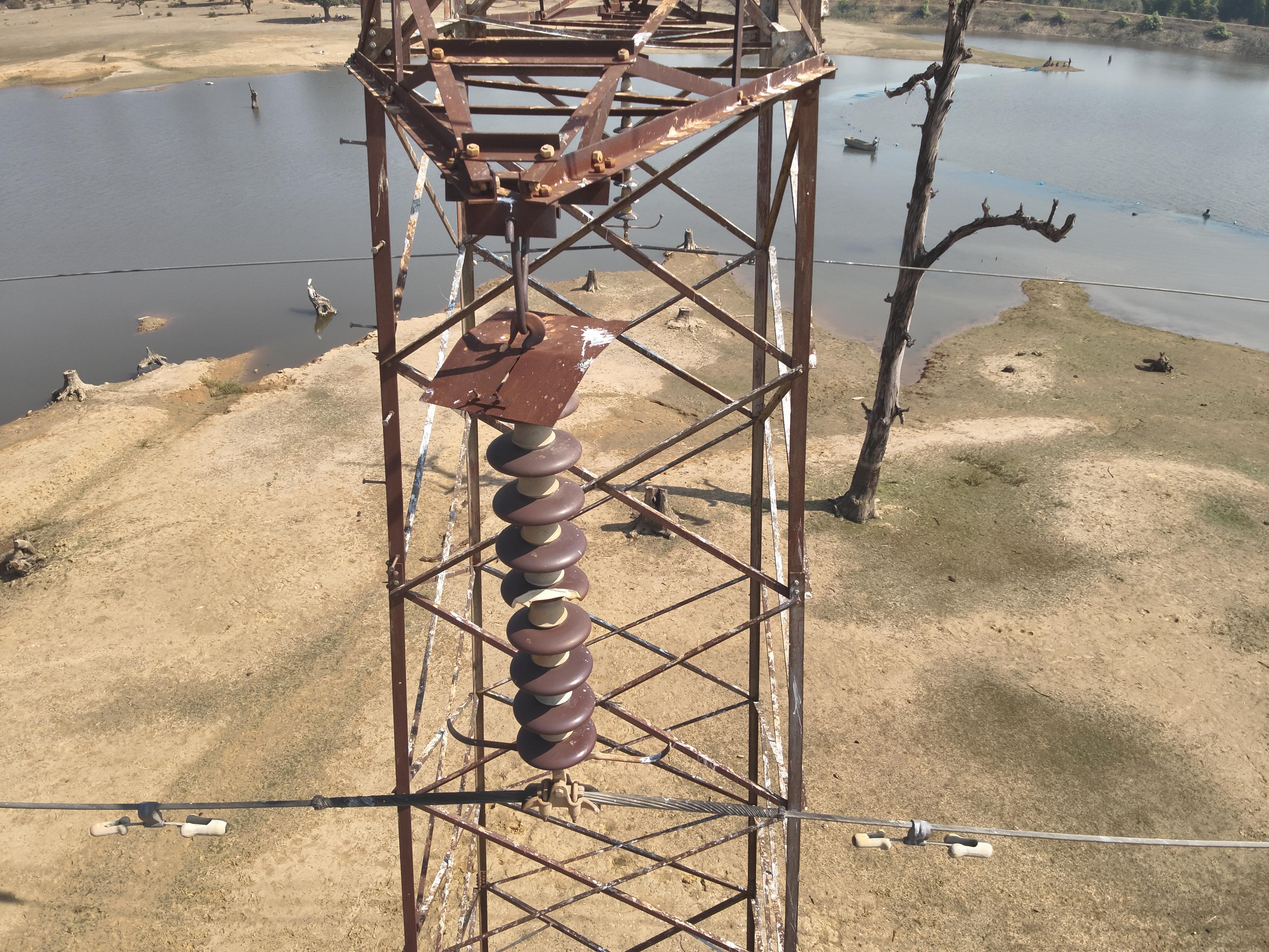broken_insulator: (491, 568, 603, 619)
